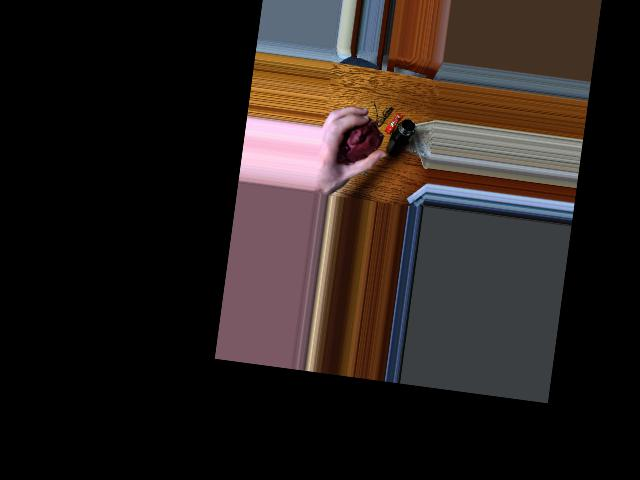onion: (336, 114, 379, 167)
